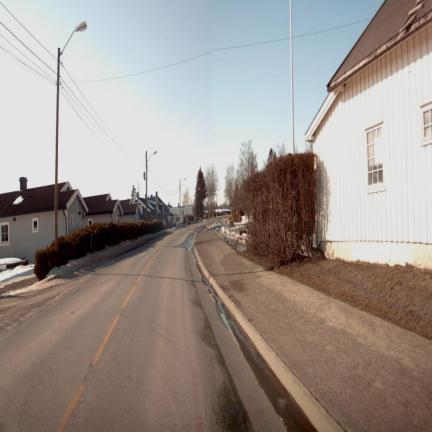Road: (0, 226, 286, 430)
